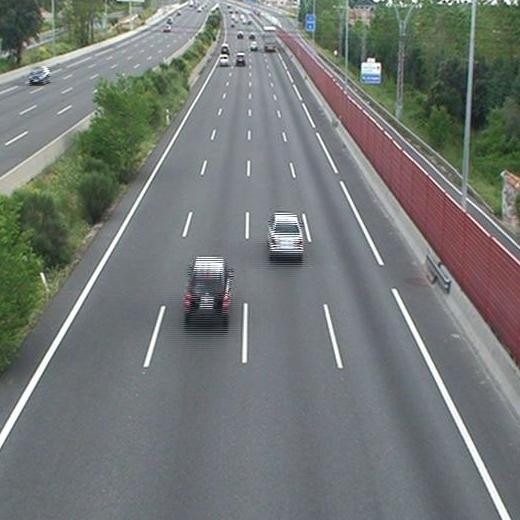car: (184, 257, 229, 318), (267, 214, 303, 255), (219, 55, 229, 66), (237, 53, 246, 63), (221, 45, 229, 53), (250, 41, 257, 50)
truck: (263, 26, 276, 50)
